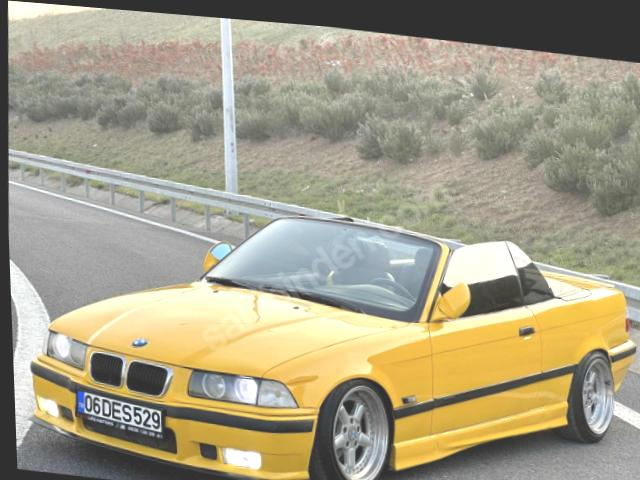plaka: (77, 390, 163, 438)
